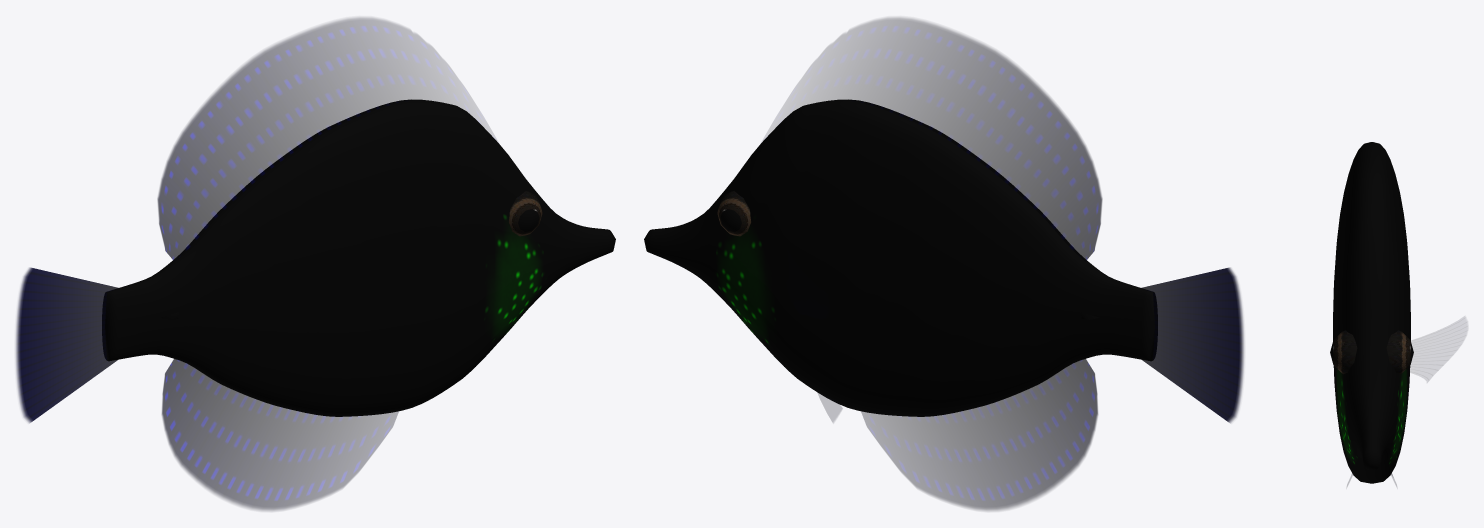
The model's file is gem_tang.glb.
The picture shows the model from 3 angles, left to right: view 1: azimuth 30°, elevation 25°; view 2: azimuth 150°, elevation 25°; view 3: azimuth 270°, elevation 25°; orthographic projection.
Parts seen in each view (by area): view 1: Body, FinDorsal, FinAnal, FinCaudal, EyeR; view 2: Body, FinDorsal, FinAnal, FinCaudal, FinPectoralL, EyeL; view 3: Body, FinPectoralL, EyeL, EyeR.
Boxes of the visible parts, bbox=[...] form: Body: bbox=[102, 99, 615, 416]; FinDorsal: bbox=[157, 17, 496, 261]; FinAnal: bbox=[162, 359, 398, 510]; FinCaudal: bbox=[16, 267, 119, 422]; EyeR: bbox=[509, 191, 542, 236]; Body: bbox=[644, 99, 1157, 416]; FinDorsal: bbox=[763, 17, 1102, 261]; FinAnal: bbox=[861, 359, 1097, 510]; FinCaudal: bbox=[1140, 267, 1243, 422]; FinPectoralL: bbox=[786, 252, 828, 317]; EyeL: bbox=[717, 191, 750, 236]; Body: bbox=[1333, 142, 1410, 483]; FinPectoralL: bbox=[1410, 317, 1467, 381]; EyeL: bbox=[1386, 330, 1413, 374]; EyeR: bbox=[1330, 330, 1357, 374].
Size of the model in its own units: 1 by 0.7662 by 0.2831.
Materials: 4 (3 with a texture image).
